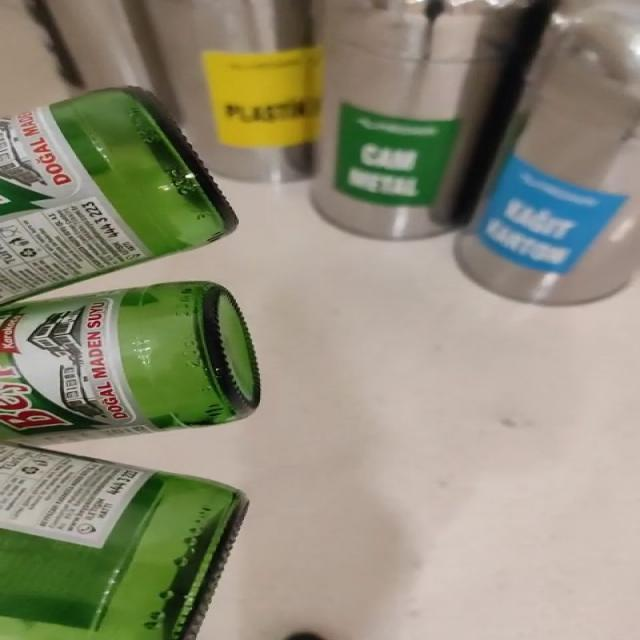Glass: (0, 88, 236, 303), (0, 442, 245, 639), (0, 281, 260, 436)
Metal: (312, 0, 556, 239)
